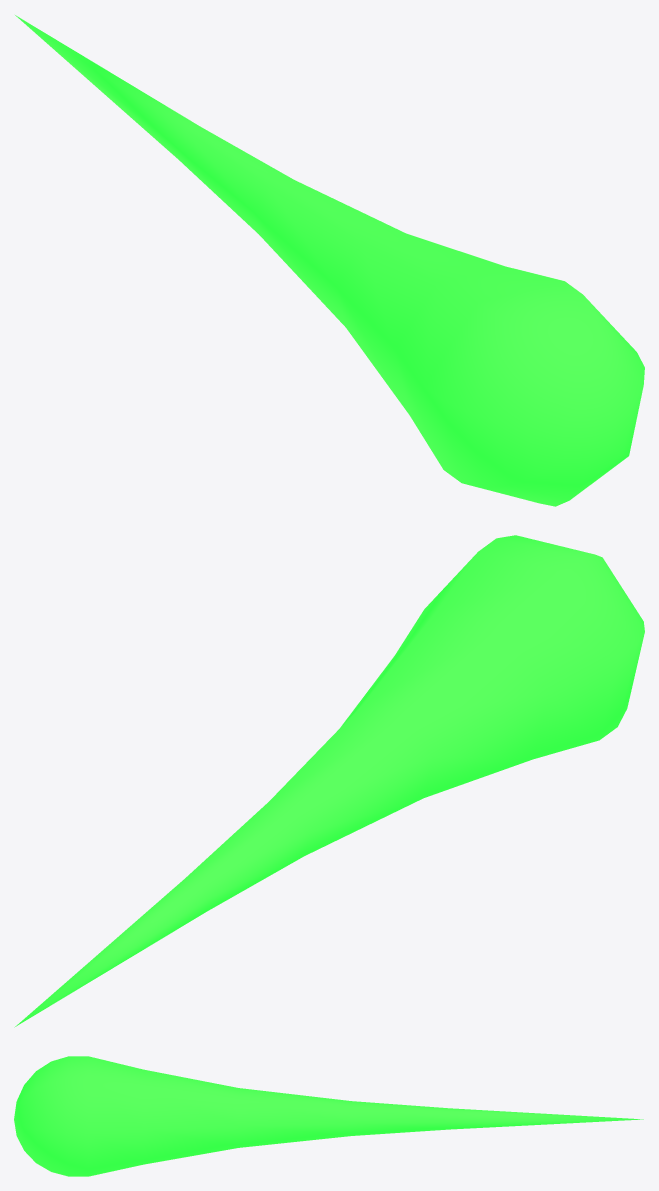
File: particle 2.fbx
3 views of the same model, one above another, from view 1: azimuth 30°, elevation 25°; view 2: azimuth 150°, elevation 25°; view 3: azimuth 270°, elevation 25° (orthographic). The views are drawn at different scales.
Parts seen in each view (by area): view 1: Sphere; view 2: Sphere; view 3: Sphere.
Boxes of the visible parts, left/top/right/bottom form: Sphere: left=15, top=15, right=644, bottom=506; Sphere: left=14, top=535, right=644, bottom=1027; Sphere: left=14, top=1056, right=643, bottom=1176.
Size of the model in its own units: 48.4 by 47.18 by 248.
